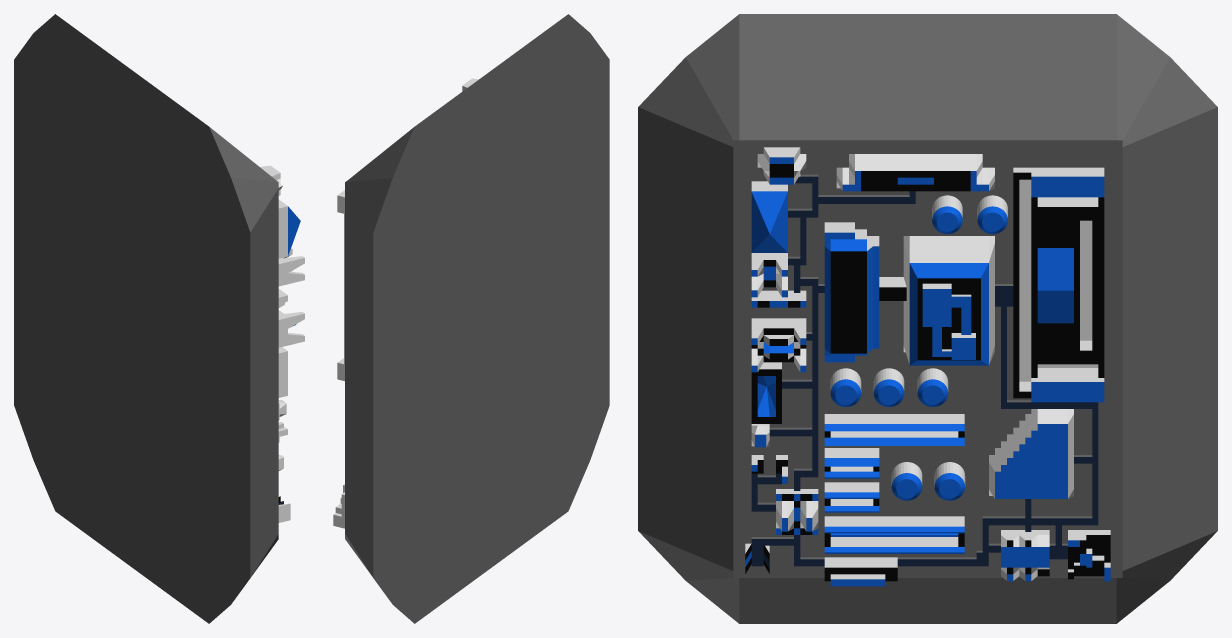
The model's file is Mapa.fbx.
The picture shows the model from 3 angles, left to right: view 1: azimuth 30°, elevation 25°; view 2: azimuth 150°, elevation 25°; view 3: azimuth 270°, elevation 25°; orthographic projection. The views are drawn at different scales.
Parts seen in each view (by area): view 1: Cube; view 2: Cube; view 3: Cube.
Boxes of the visible parts, x1,y1,x2,y2 form: Cube: (14,14,304,623); Cube: (333,14,609,623); Cube: (638,14,1217,623).
Size of the model in its own units: 350 by 1415 by 1219.
